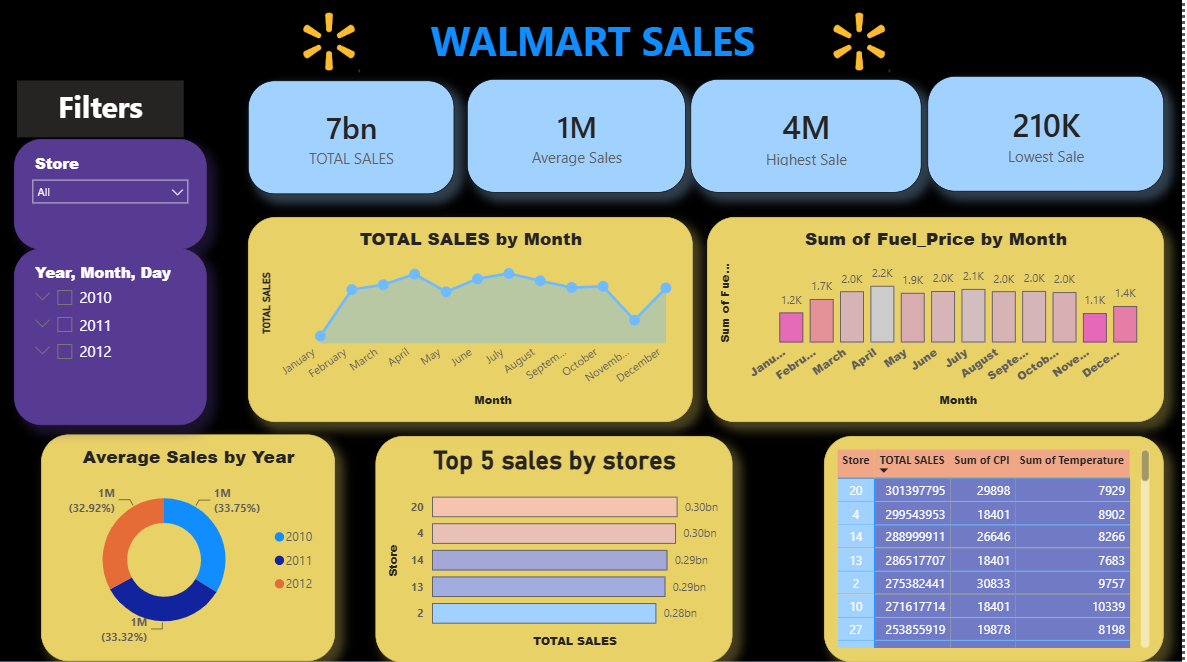

The page's visual inventory and layout, read from the dashboard file:
{"tool":"powerbi","page":{"name":"Page 1","canvas":[1280,720],"ordinal":0},"visuals":[{"type":"shape","box":[0,0,1281.3,720],"z":0},{"type":"shape","box":[69.6,14.6,1144.8,56.7],"z":1000},{"type":"textbox","box":[69.6,14.6,1144.8,71.2],"z":2000},{"type":"image","box":[312.5,14.6,93.9,71.2],"z":3000},{"type":"image","box":[880.9,14.6,102,71.2],"z":4000},{"type":"cardVisual","fields":{"Data":["Walmart.TOTAL SALES"]},"box":[272.1,92.6,223,122.8],"z":5000},{"type":"cardVisual","fields":{"Data":["Walmart.Average Sales"]},"box":[508.4,90.7,236.2,122.8],"z":6000},{"type":"cardVisual","fields":{"Data":["Walmart.Highest Sale"]},"box":[750.2,90.7,249.5,122.8],"z":7000},{"type":"cardVisual","fields":{"Data":["Walmart.Lowest Sale"]},"box":[1005.4,86.9,255.1,124.7],"z":8000},{"type":"clusteredBarChart","title":"Top 5 sales by stores","fields":{"Category":["Walmart.Store"],"Y":["Walmart.TOTAL SALES"]},"box":[409.7,476.1,385.4,244.5],"z":9000},{"type":"lineChart","fields":{"Category":["Walmart.Date.Variation.Date Hierarchy.Month"],"Y":["Walmart.TOTAL SALES"]},"box":[272.1,240,480,221.1],"z":10000},{"type":"lineStackedColumnComboChart","fields":{"Category":["Walmart.Date.Variation.Date Hierarchy.Month"],"Y":["Sum(Walmart.Fuel_Price)"]},"box":[767.2,240,493.2,221.1],"z":11000},{"type":"donutChart","fields":{"Y":["Walmart.Average Sales"],"Category":["Walmart.Date.Variation.Date Hierarchy.Year"]},"box":[48.6,474.4,317.4,244.5],"z":12000},{"type":"pivotTable","fields":{"Rows":["Walmart.Store"],"Values":["Walmart.TOTAL SALES","Sum(Walmart.CPI)","Sum(Walmart.Temperature)"]},"box":[893.9,476.2,366.6,243.8],"z":12001},{"type":"slicer","fields":{"Values":["Walmart.Store"]},"box":[18.9,155,207.9,119.1],"z":12002},{"type":"slicer","fields":{"Values":["Walmart.Date.Variation.Date Hierarchy.Year","Walmart.Date.Variation.Date Hierarchy.Month","Walmart.Date.Variation.Date Hierarchy.Day"]},"box":[18.9,274,207.9,190.9],"z":12003},{"type":"textbox","box":[22.7,92.3,179.7,61.5],"z":12004}]}

Visuals, with their boxes in screenshot pixels (x1, y1, x2, y2), scaled from the page's 1280x720 canvas onto the 1187x662 screenshot:
shape: BBox(0, 0, 1186, 661)
shape: BBox(65, 13, 1126, 66)
textbox: BBox(65, 13, 1126, 79)
image: BBox(290, 13, 377, 79)
image: BBox(817, 13, 911, 79)
cardVisual - Walmart.TOTAL SALES: BBox(252, 85, 459, 198)
cardVisual - Walmart.Average Sales: BBox(471, 83, 691, 196)
cardVisual - Walmart.Highest Sale: BBox(696, 83, 927, 196)
cardVisual - Walmart.Lowest Sale: BBox(932, 80, 1169, 195)
"Top 5 sales by stores" clusteredBarChart: BBox(380, 438, 737, 661)
lineChart - Walmart.Date.Variation.Date Hierarchy.Month x Walmart.TOTAL SALES: BBox(252, 221, 697, 424)
lineStackedColumnComboChart - Walmart.Date.Variation.Date Hierarchy.Month x Sum(Walmart.Fuel_Price): BBox(711, 221, 1169, 424)
donutChart - Walmart.Average Sales x Walmart.Date.Variation.Date Hierarchy.Year: BBox(45, 436, 339, 661)
pivotTable - Walmart.Store x Walmart.TOTAL SALES: BBox(829, 438, 1169, 661)
slicer - Walmart.Store: BBox(18, 143, 210, 252)
slicer - Walmart.Date.Variation.Date Hierarchy.Year x Walmart.Date.Variation.Date Hierarchy.Month: BBox(18, 252, 210, 427)
textbox: BBox(21, 85, 188, 141)
